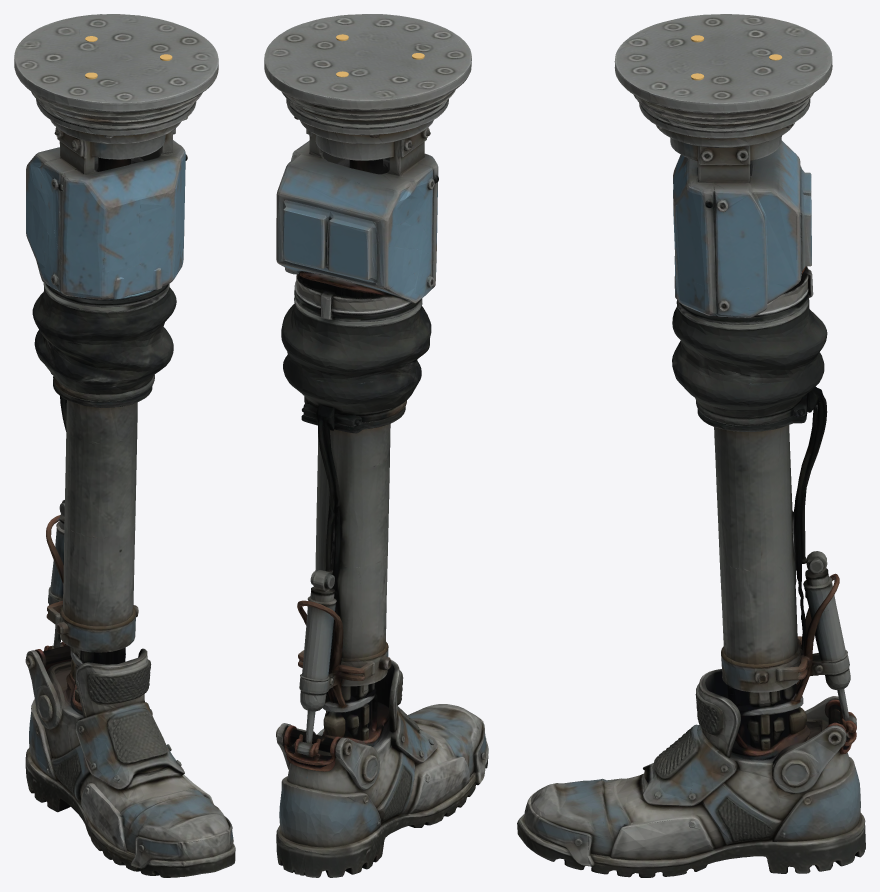
Rendered from implant_salvage_leg.glb.
3 renders of one model, left to right at view 1: azimuth 30°, elevation 25°; view 2: azimuth 150°, elevation 25°; view 3: azimuth 270°, elevation 25°, orthographic. The views are drawn at different scales.
Visible parts, largest first — view 1: world; view 2: world; view 3: world.
Boxes of the visible parts, x1=… form: world: x1=14, y1=14, x2=235, y2=877; world: x1=264, y1=14, x2=488, y2=877; world: x1=517, y1=14, x2=865, y2=877.
Size of the model in its own units: 0.2051 by 0.85 by 0.3369.
3 materials, 1 textured.
